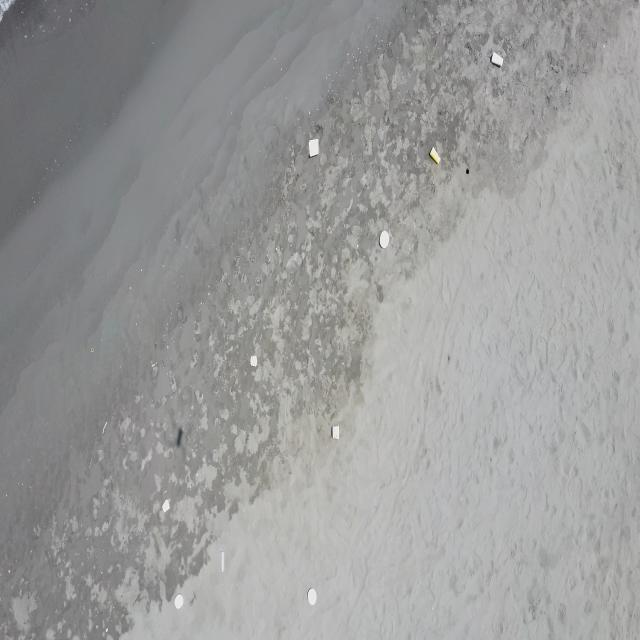take-away-containers: (306, 588, 318, 606), (308, 138, 319, 157), (379, 230, 389, 249), (331, 424, 340, 442), (174, 593, 184, 609), (162, 499, 170, 513), (250, 355, 258, 368)
takeaway-cup: (430, 146, 441, 165), (491, 51, 504, 67), (219, 549, 227, 574)
